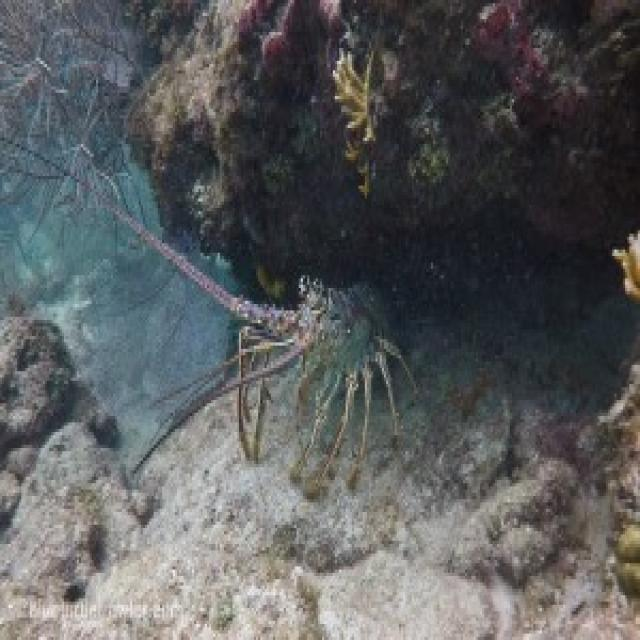lobsters: (128, 139, 554, 595)
